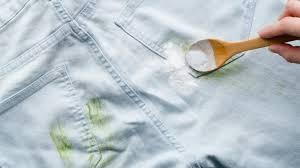earth: (87, 137, 115, 167), (49, 128, 72, 155), (89, 100, 101, 126)
